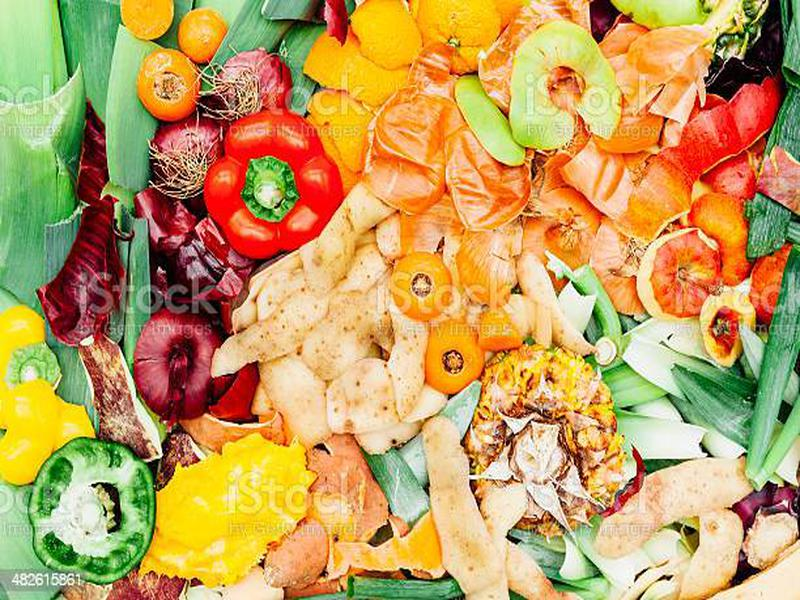vegetation: (6, 1, 800, 600)
